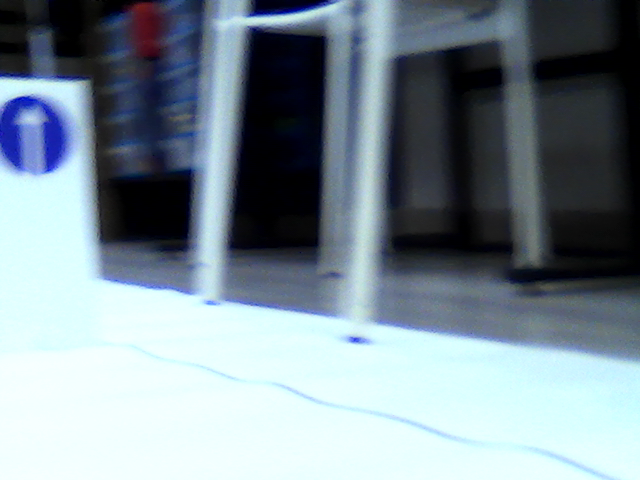forw: (3, 95, 68, 176)
